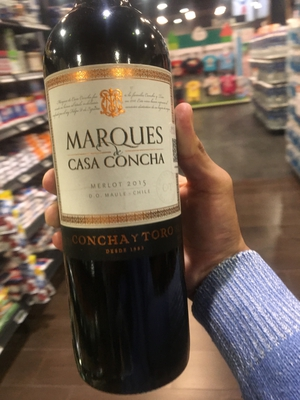marques de casa concha merlot: (45, 10, 206, 387)
